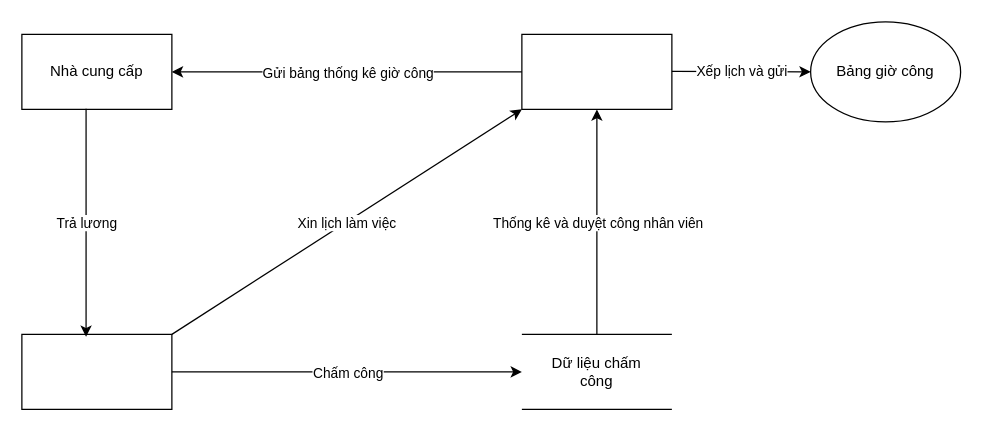
The diagram is 983 pixels wide and 433 high, and some of its shapes have lost their labels. The centre of each missing label's shape, as x and y in pixels:
"Bộ phận Quản Lý" belongs at [596,71].
"Nhân viên" belongs at [96,371].
